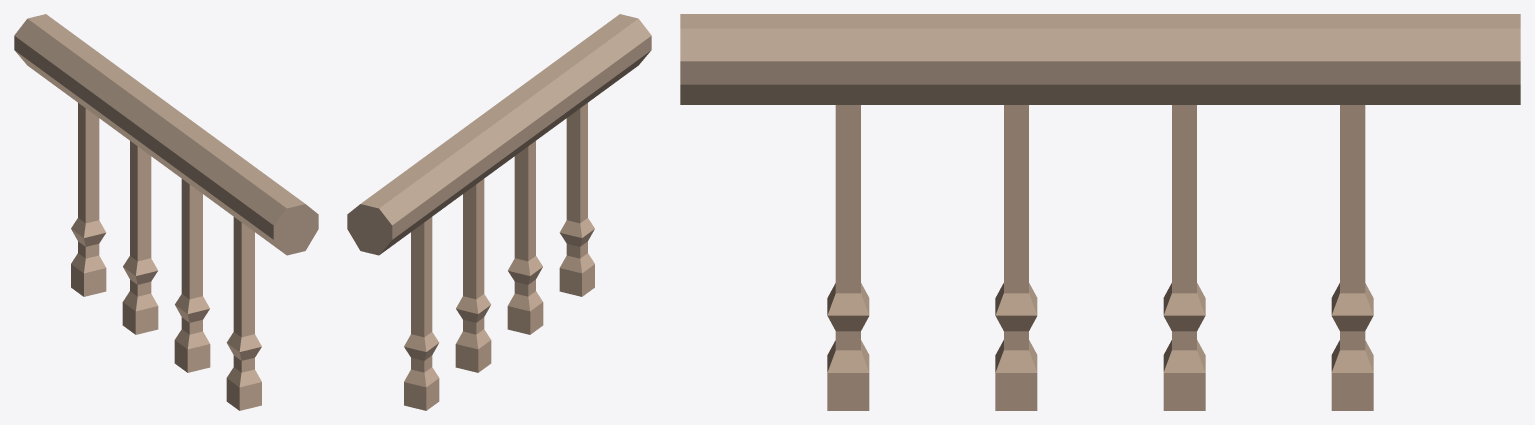
File: Structure_Stairs_Railing_Landing_Side.fbx
3 views of the same model, side by side, from view 1: azimuth 30°, elevation 25°; view 2: azimuth 150°, elevation 25°; view 3: azimuth 270°, elevation 25° (orthographic). The views are drawn at different scales.
Parts seen in each view (by area): view 1: object1.103; view 2: object1.103; view 3: object1.103.
Boxes of the visible parts, <box> form: object1.103: <box>14,14,318,410</box>; object1.103: <box>347,14,651,410</box>; object1.103: <box>680,14,1520,410</box>.
Bounding box in the file's own units: 10 × 50 × 100.
